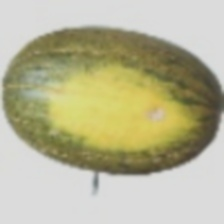honeydew: (40, 34, 198, 183)
